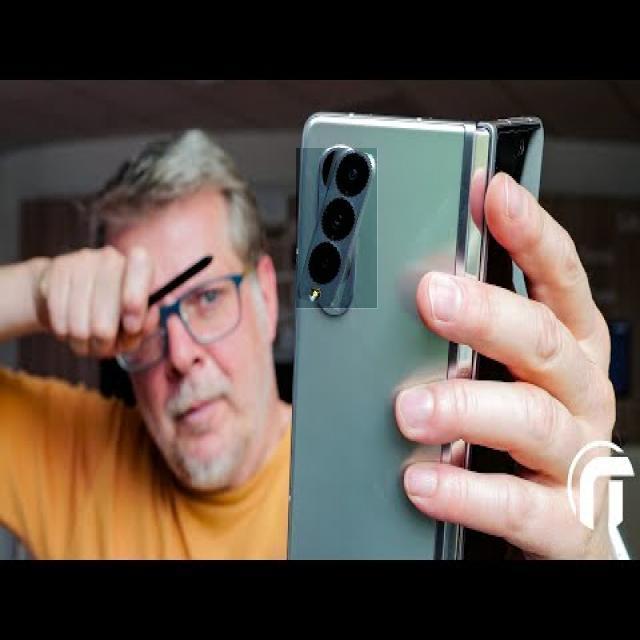lens: (307, 147, 373, 300)
phone: (288, 106, 544, 560)
